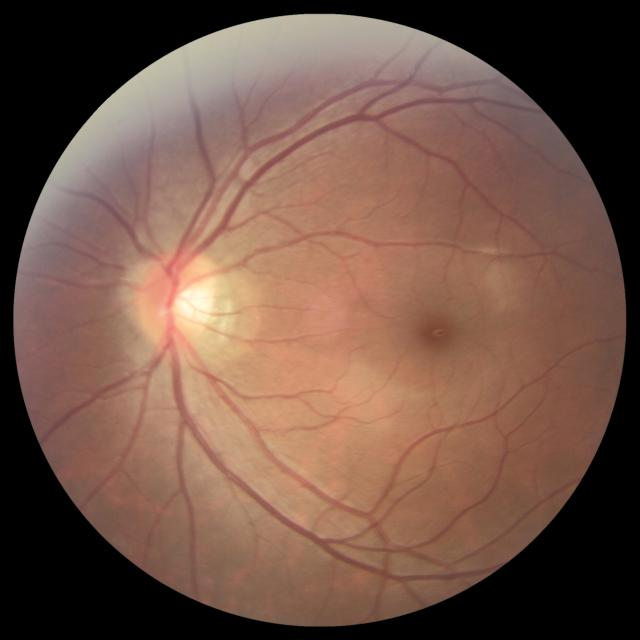OC: (168, 282, 208, 327)
OD: (135, 252, 217, 348)
